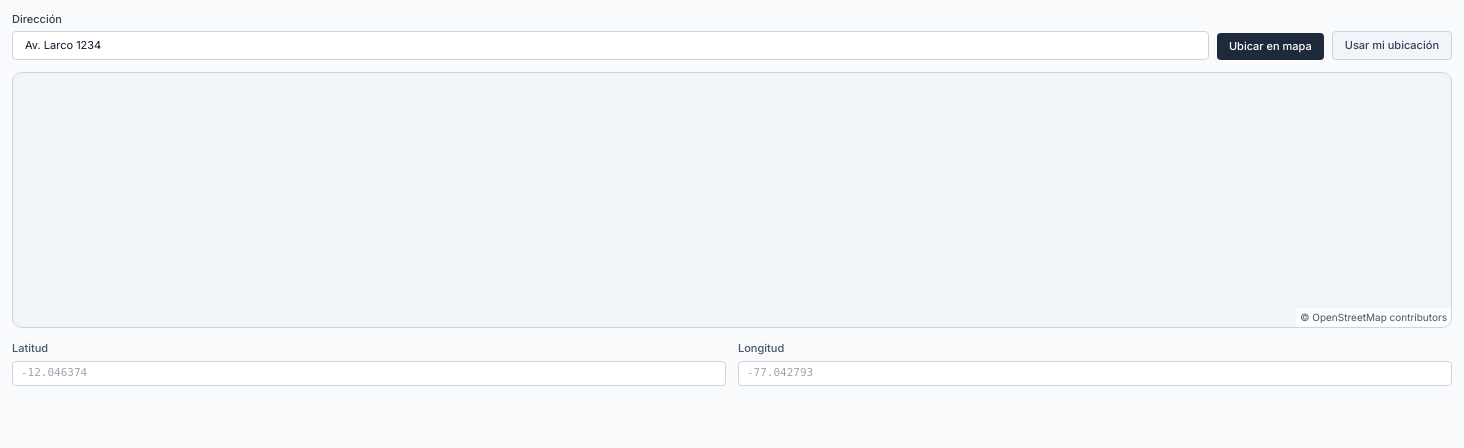
F005.4 · Geolocalización de Sedes — Full E2E & Component Test Suite › Tier 2: Boundary & Corner Cases › T2-DRAG-02: Geocoding 503 outage during search shows non-blocking fallback warning without crashing form
Click the button "Ubicar en mapa": (1270, 46) 1217,33 -> 1324,60
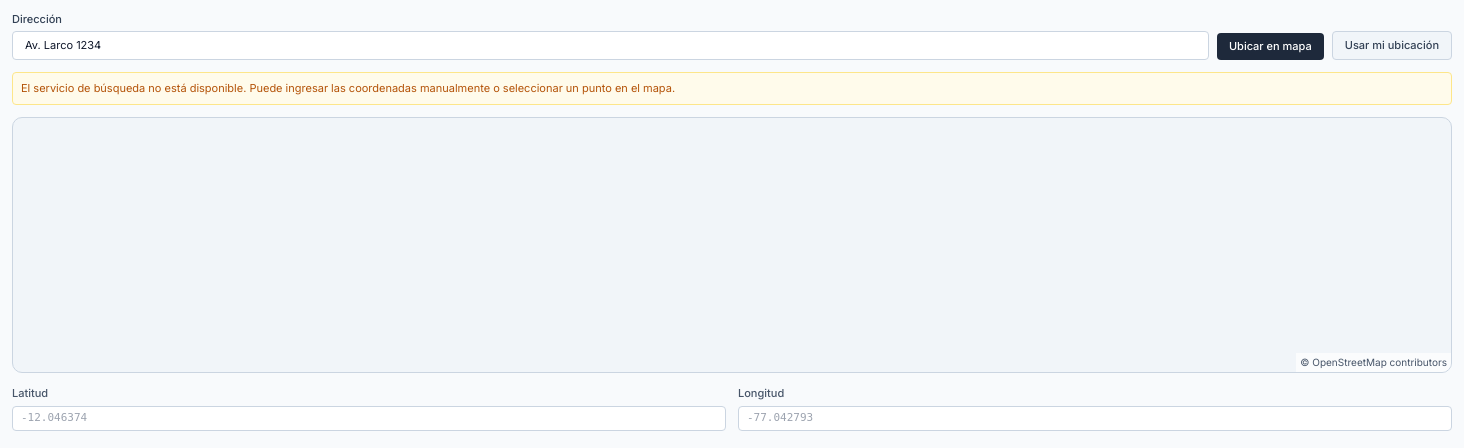
Check: the field labelled "Latitud" is enabled, box 12,406 -> 726,431
Check: the message shows "servicio de búsqueda no está disponible", box 21,81 -> 675,95
